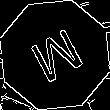M_SE: (23, 22, 87, 88)
